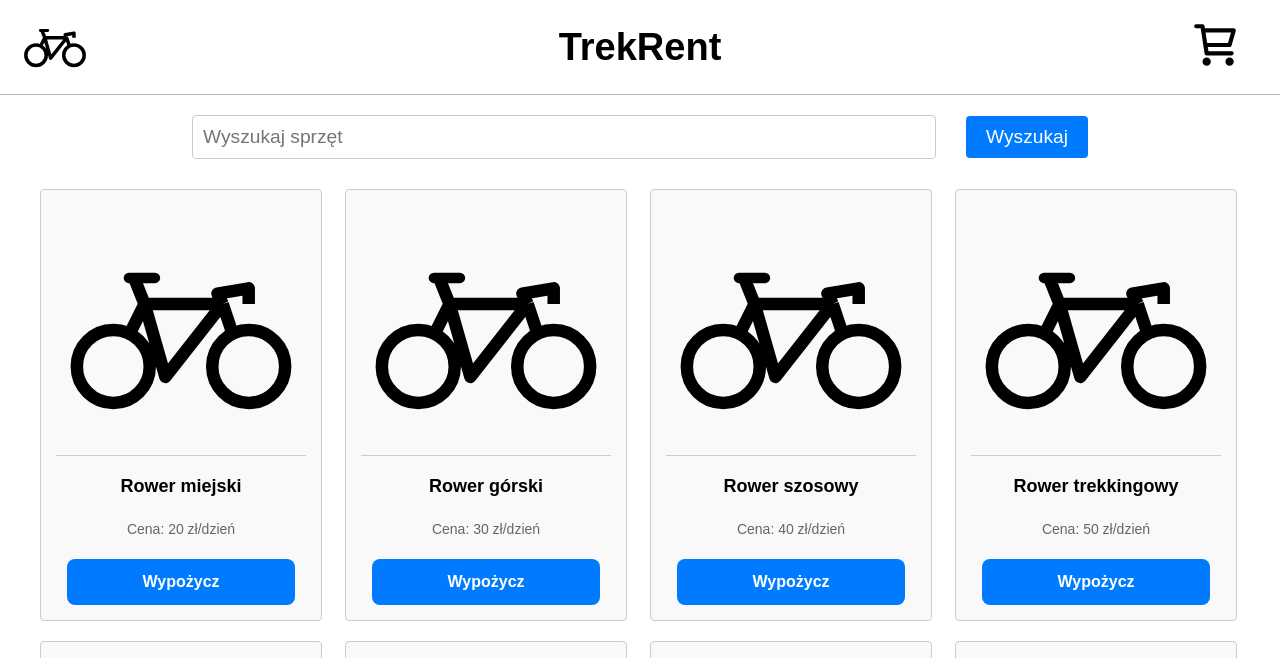
MainPage › displays all equipment when search term is cleared
The width and height of the screenshot is (1280, 658).
Type "Rower miejski" into the field with placeholder "Wyszukaj sprzęt" at (564, 137), box 192,115 -> 936,159
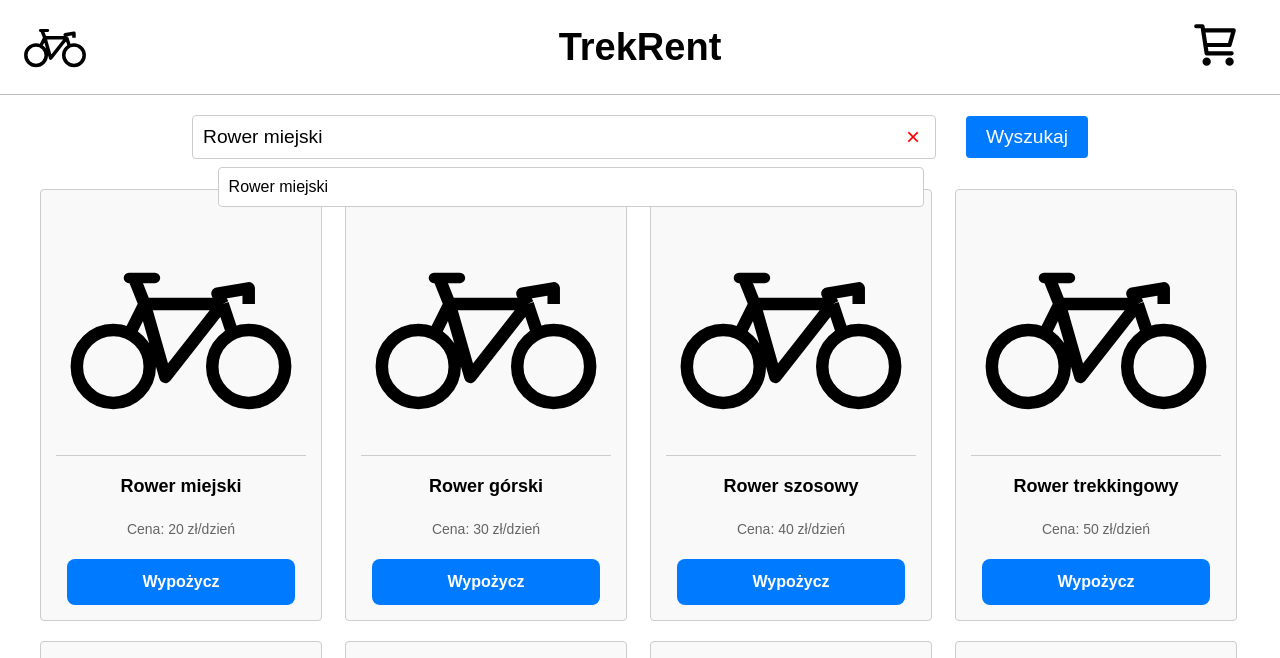
Click the button "Wyszukaj" at (1027, 137), box 966,116 -> 1088,158
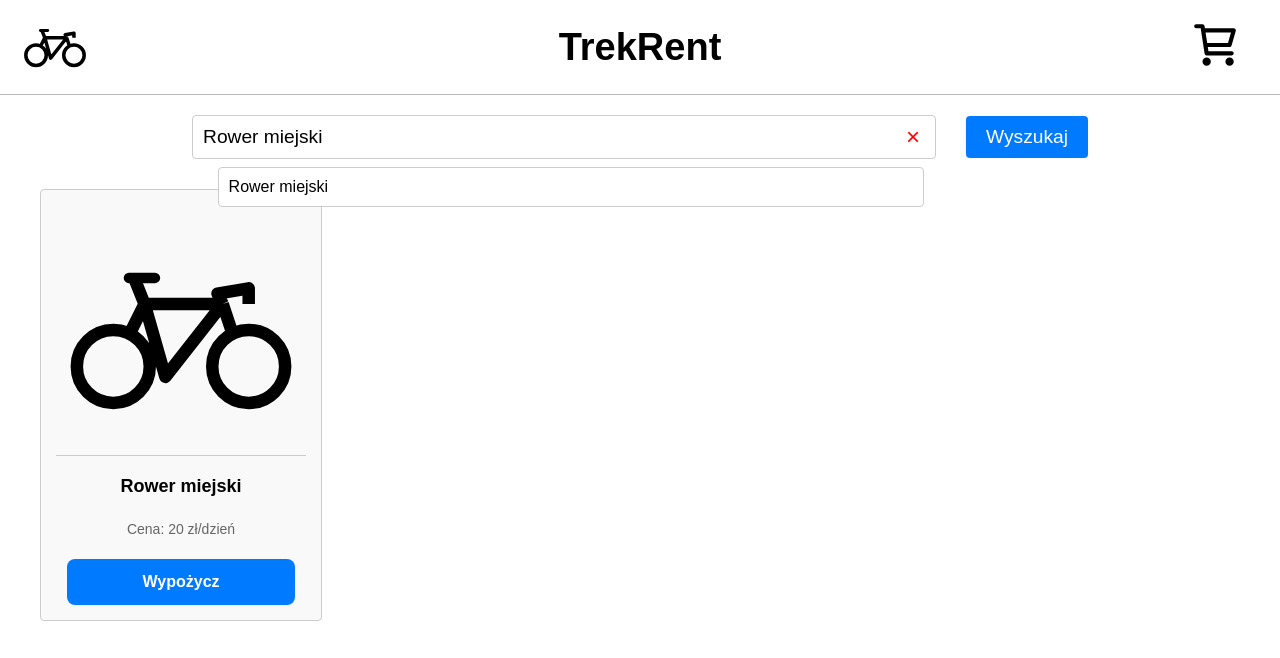
Clear the field with placeholder "Wyszukaj sprzęt" at (564, 137), box 192,115 -> 936,159
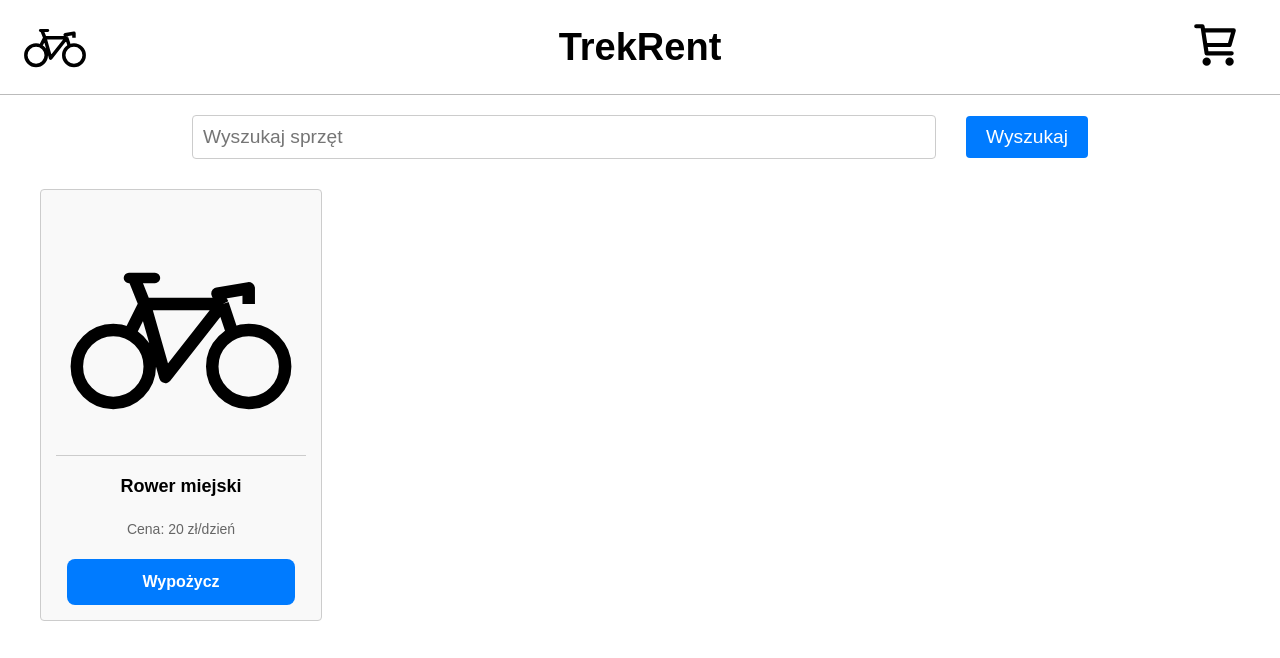
Click the button "Wyszukaj" at (1027, 137), box 966,116 -> 1088,158
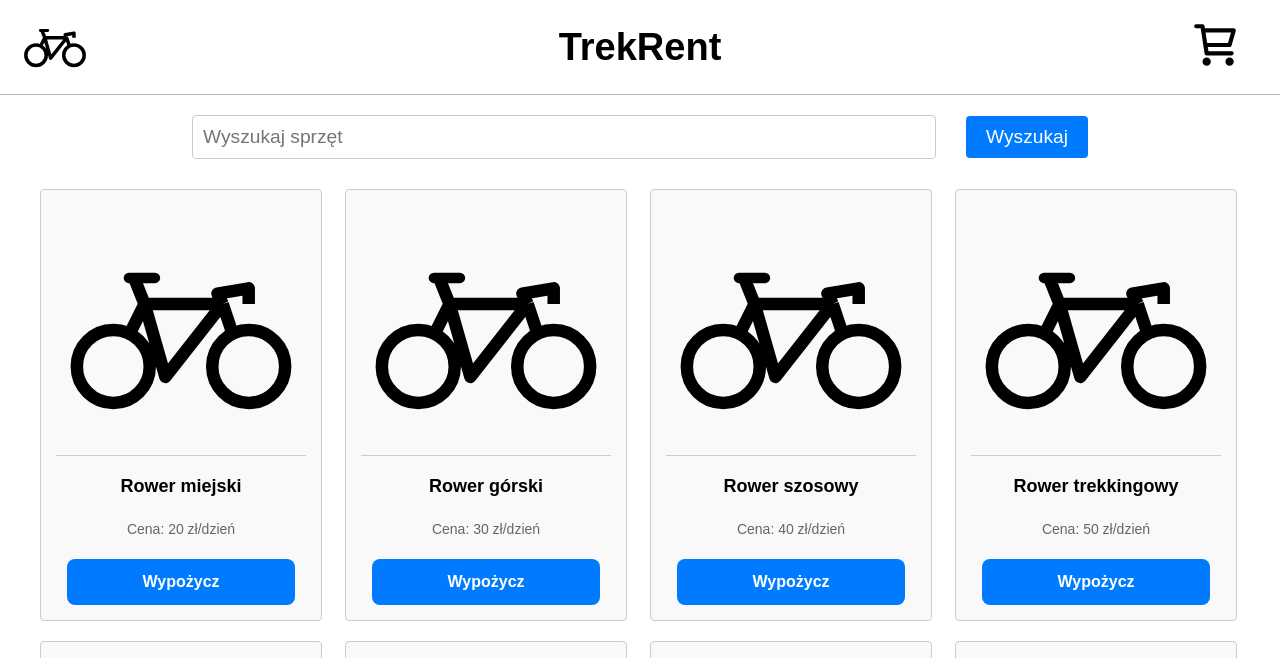
Result: the heading "Rower górski" is shown at 429,476 -> 543,497
Result: the heading "Rower szosowy" is shown at 724,476 -> 858,497
Result: the heading "Rower trekkingowy" is shown at 1014,476 -> 1178,497
